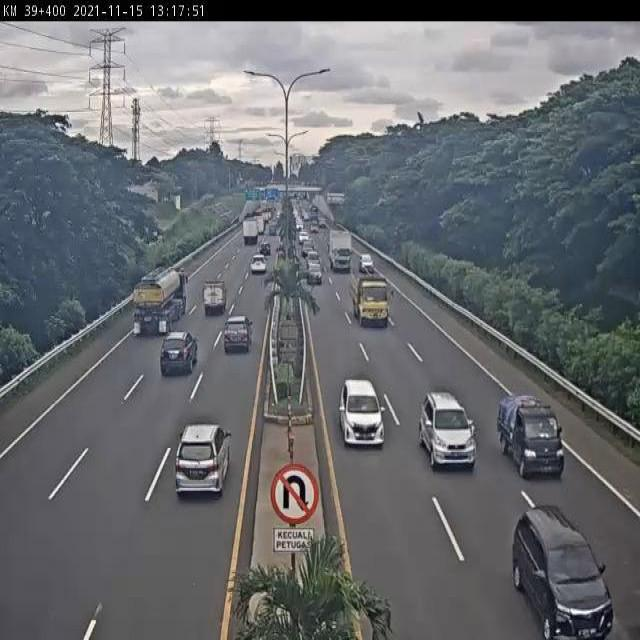car: (513, 504, 615, 640), (420, 392, 477, 469), (177, 425, 229, 495), (339, 379, 387, 449), (161, 332, 196, 377), (225, 314, 253, 350), (252, 255, 266, 272)
truck-m-: (350, 271, 394, 329)
truck-s-: (497, 391, 565, 480), (203, 282, 227, 318)
truck-xl-: (133, 268, 187, 337)
